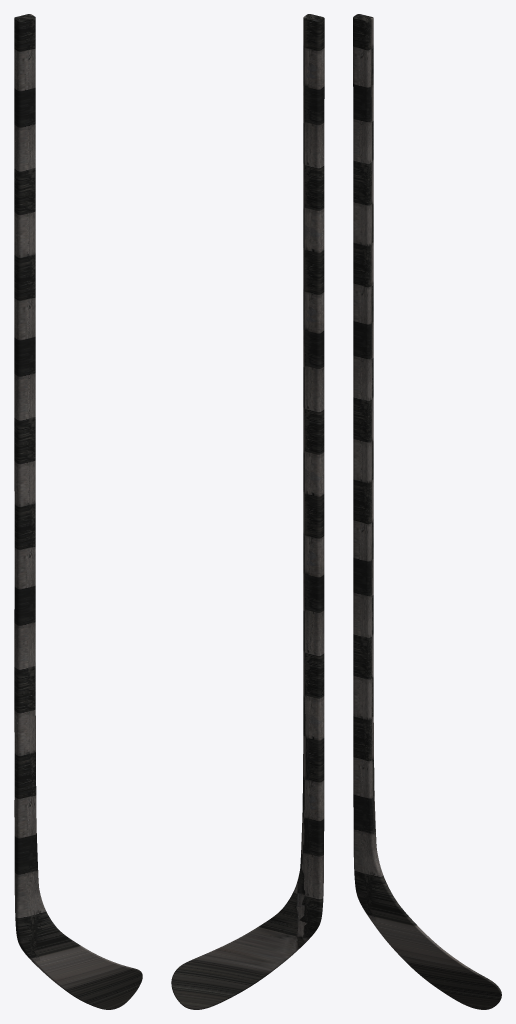
3 views of the same model, side by side, from view 1: azimuth 30°, elevation 25°; view 2: azimuth 150°, elevation 25°; view 3: azimuth 330°, elevation 25° (orthographic). The views are drawn at different scales.
Visible parts, largest first — view 1: geometry_0; view 2: geometry_0; view 3: geometry_0.
Boxes of the visible parts, x1,y1,x2,y2 form: geometry_0: (14,14,142,1009); geometry_0: (171,14,324,1009); geometry_0: (353,14,501,1009).
Size of the model in its own units: 236 by 1650 by 59.85.
Materials: 1 (1 with a texture image).
